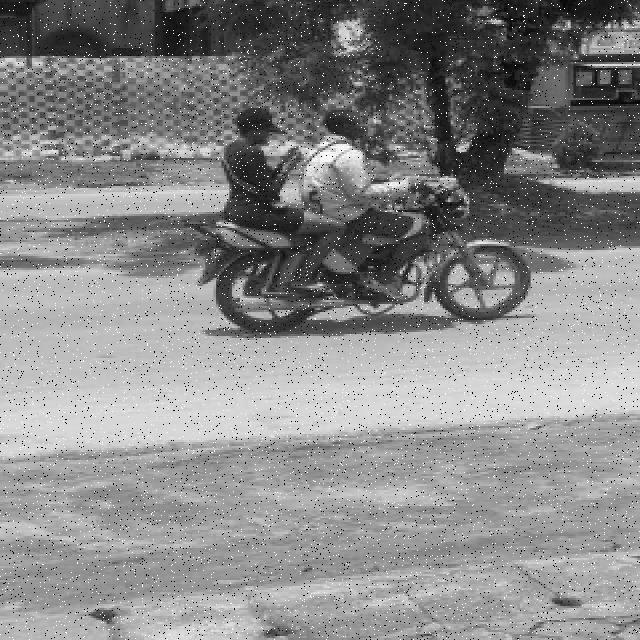SUV: (184, 109, 531, 333)
